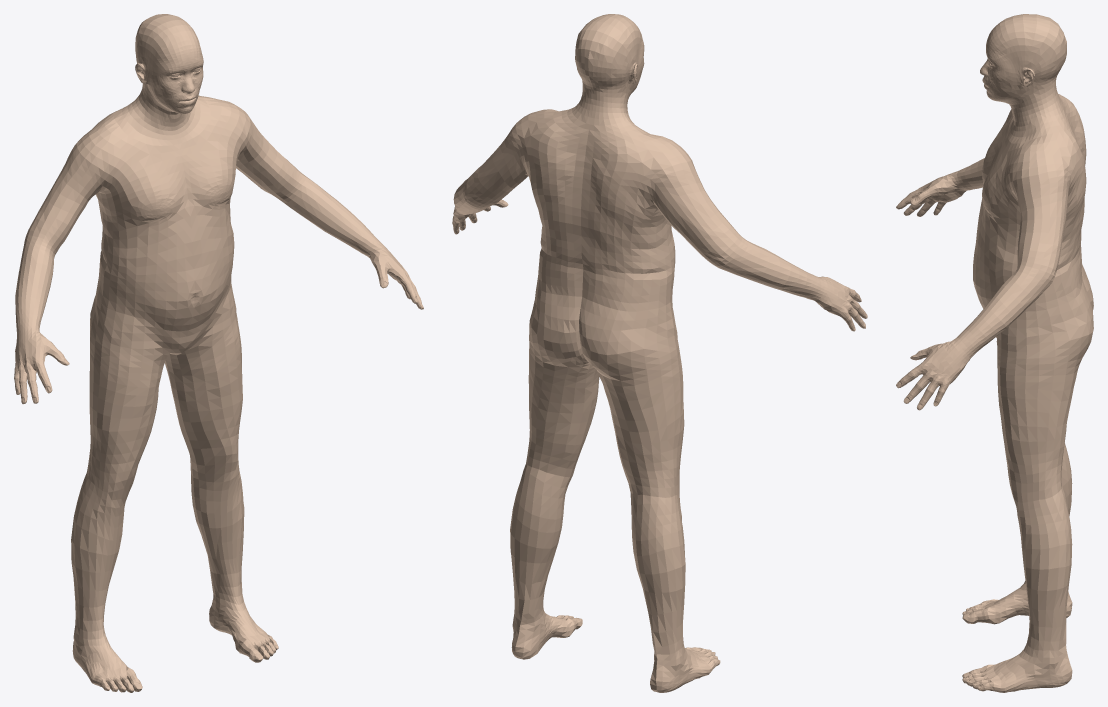
Rendered from male-young-max-toned.glb.
The picture shows the model from 3 angles, left to right: view 1: azimuth 30°, elevation 25°; view 2: azimuth 150°, elevation 25°; view 3: azimuth 270°, elevation 25°; orthographic projection.
Parts seen in each view (by area): view 1: world; view 2: world; view 3: world.
Part boxes in pixels (<box>): world: <box>14,14,423,692</box>; world: <box>452,14,867,692</box>; world: <box>896,14,1093,692</box>.
Bounding box in the file's own units: 1.24 × 1.89 × 0.5331.
